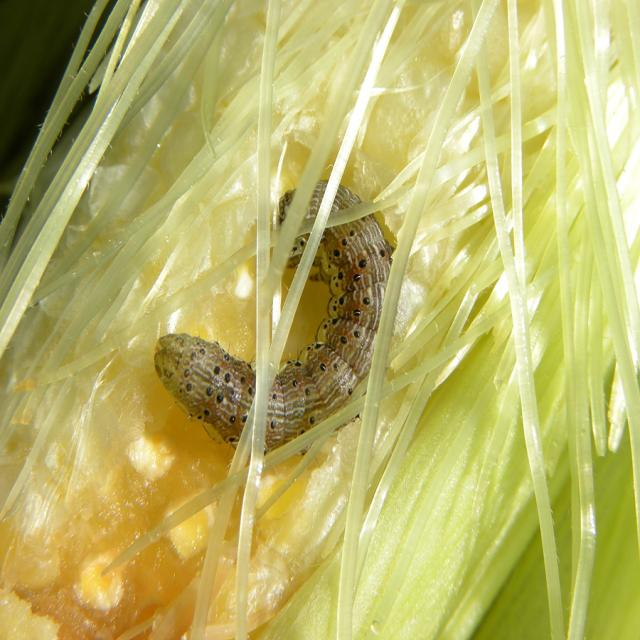Corn-earworm: (151, 168, 404, 452)
